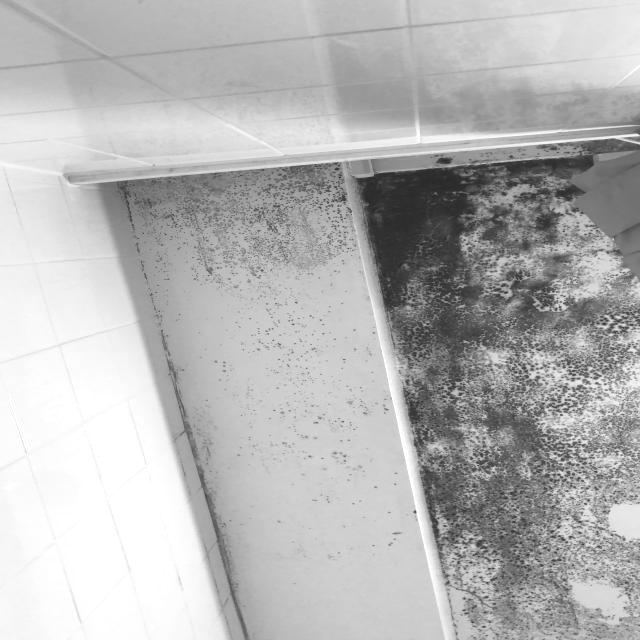stain marks: (95, 123, 640, 640)
